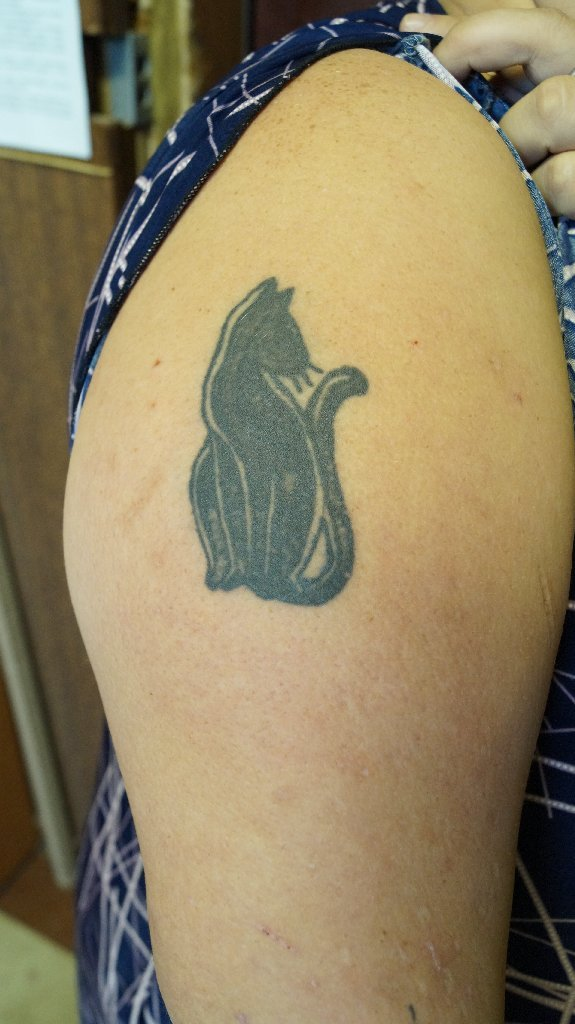tatu8_kot: (157, 260, 391, 631)
